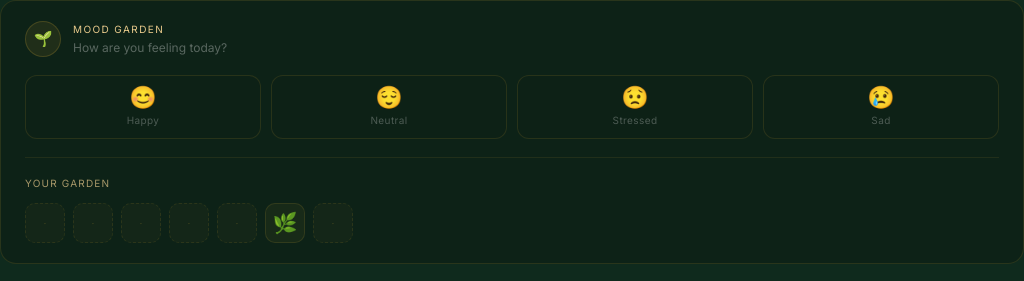
Test: MoodGarden › midnight rollover › preserves loaded history when day rolls over (does not wipe past data)
The width and height of the screenshot is (1024, 281).
Expected: the text "Your garden" is shown, [25, 177, 110, 189]
Click the button "😢 Sad": x=881, y=107 [763, 75, 999, 139]
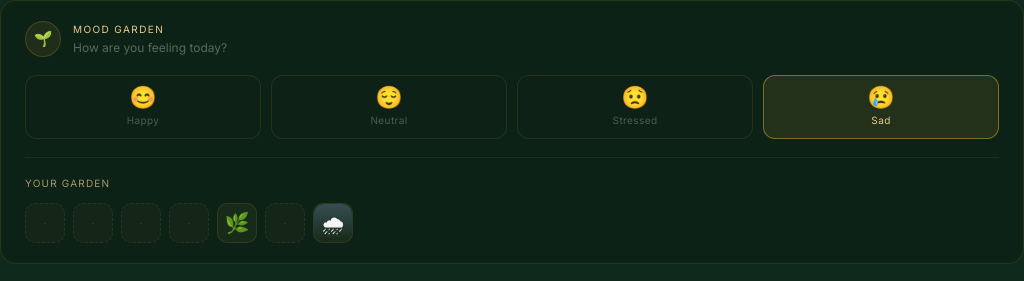
Expected: the text "🌿" is shown, [224, 208, 250, 238]
Now the text "🌧" is shown, box [322, 208, 344, 238]
